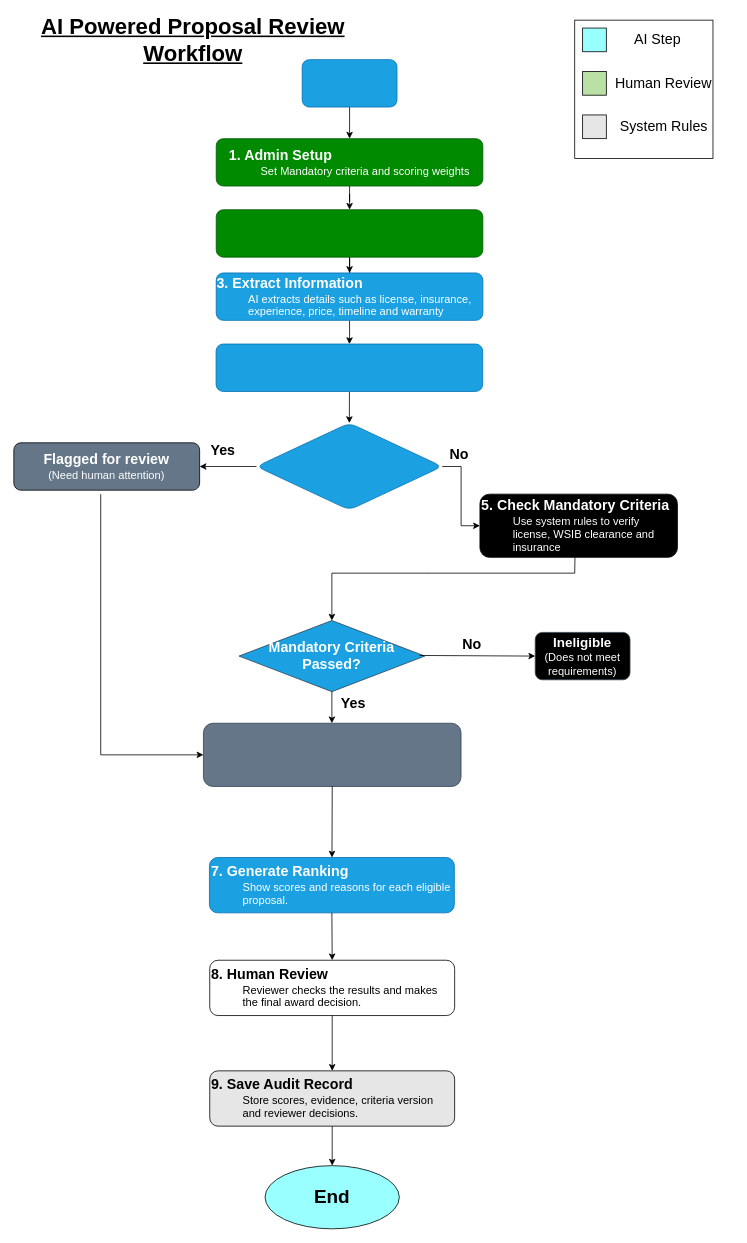
This 747x1243 diagram has some shape labels left out. The shapes that lost their labels are listed below. From the top down, each one's centre as x and y in pixels, then its label:
point (349, 83): Start
point (349, 233): 2. Upload Proposals Reviewer uploads contractor proposals and select category.
point (349, 367): 4. Validate Information Check for missing, unclear or conflicting information.
point (349, 466): Important Info missing?
point (332, 754): 6. Evaluate Proposals Apply the defining scoring weights using system rules.
